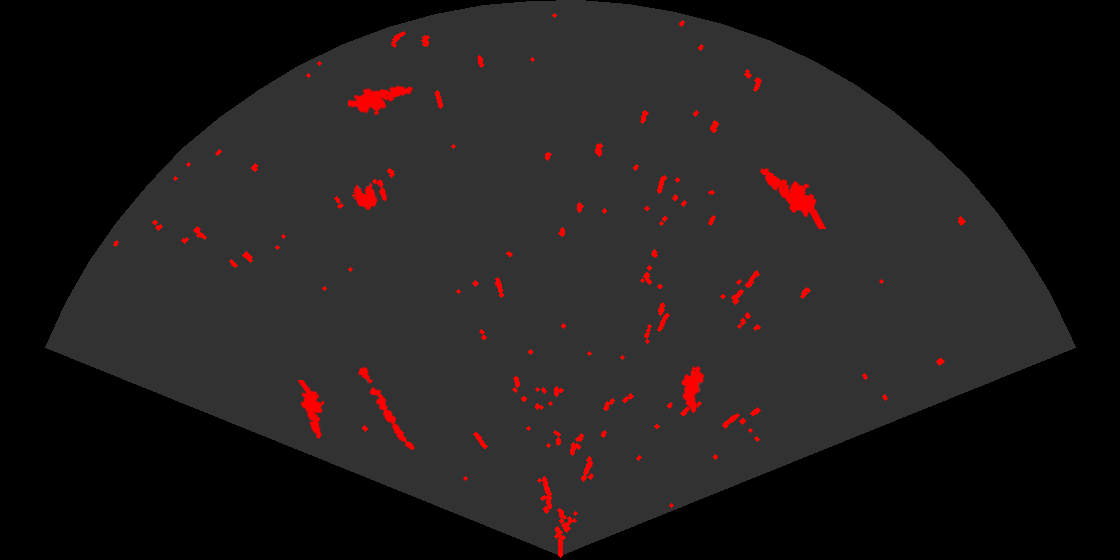AUV: (680, 364, 706, 415)
ball: (352, 178, 389, 212)
chain: (357, 365, 416, 452)
frogman: (759, 167, 828, 229), (348, 84, 414, 117), (296, 380, 326, 441)
